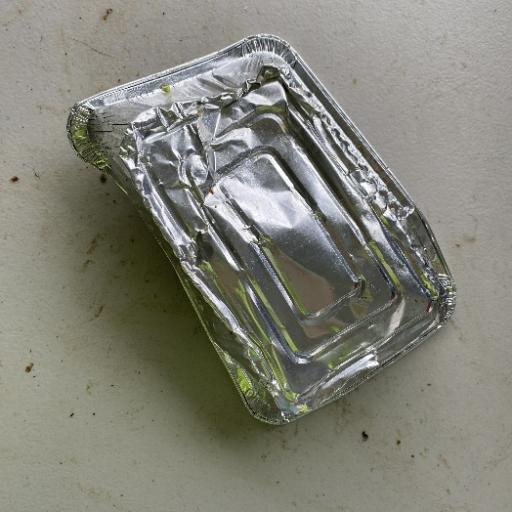Metal: (64, 32, 458, 427)
